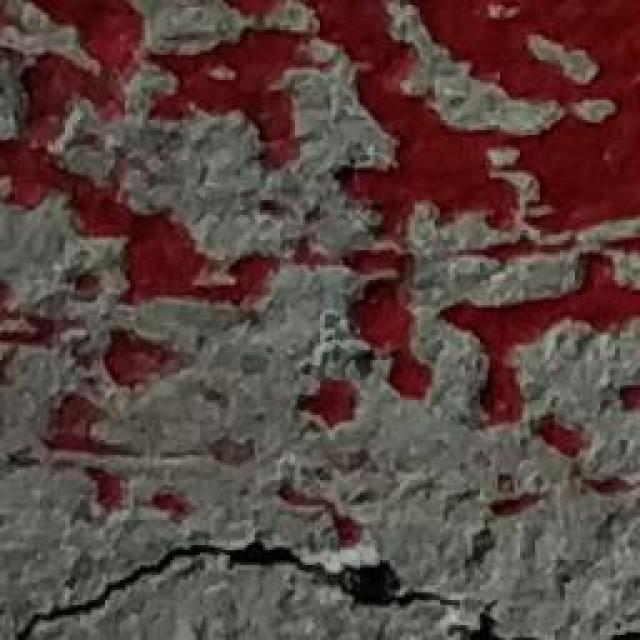Rippled: (0, 0, 640, 508)
Transverse: (0, 537, 511, 640)
